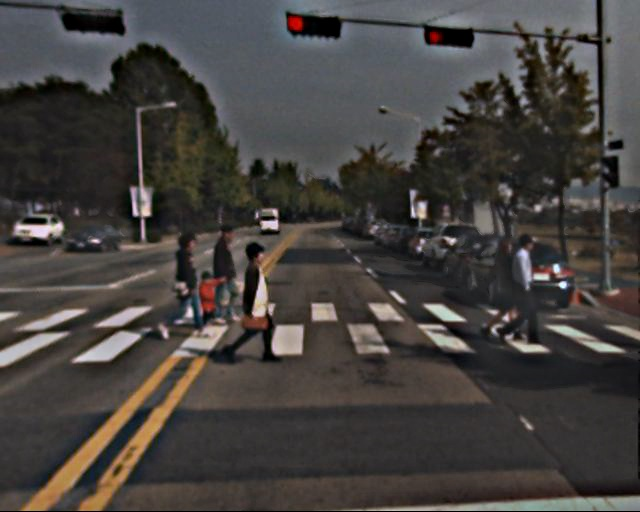person: (226, 240, 278, 367), (500, 233, 547, 348), (487, 235, 534, 349), (161, 231, 207, 343), (204, 223, 245, 322)
